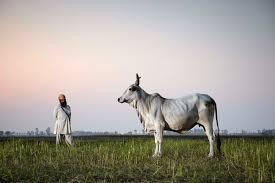cow: (117, 72, 223, 158)
